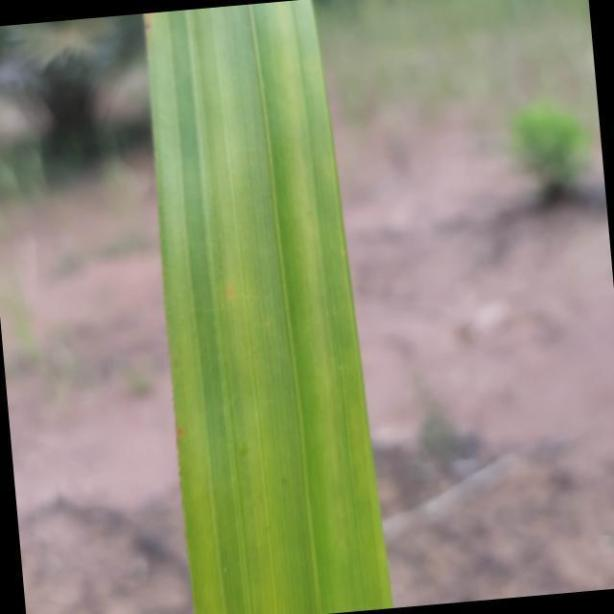nitrogen: (144, 0, 401, 614)
